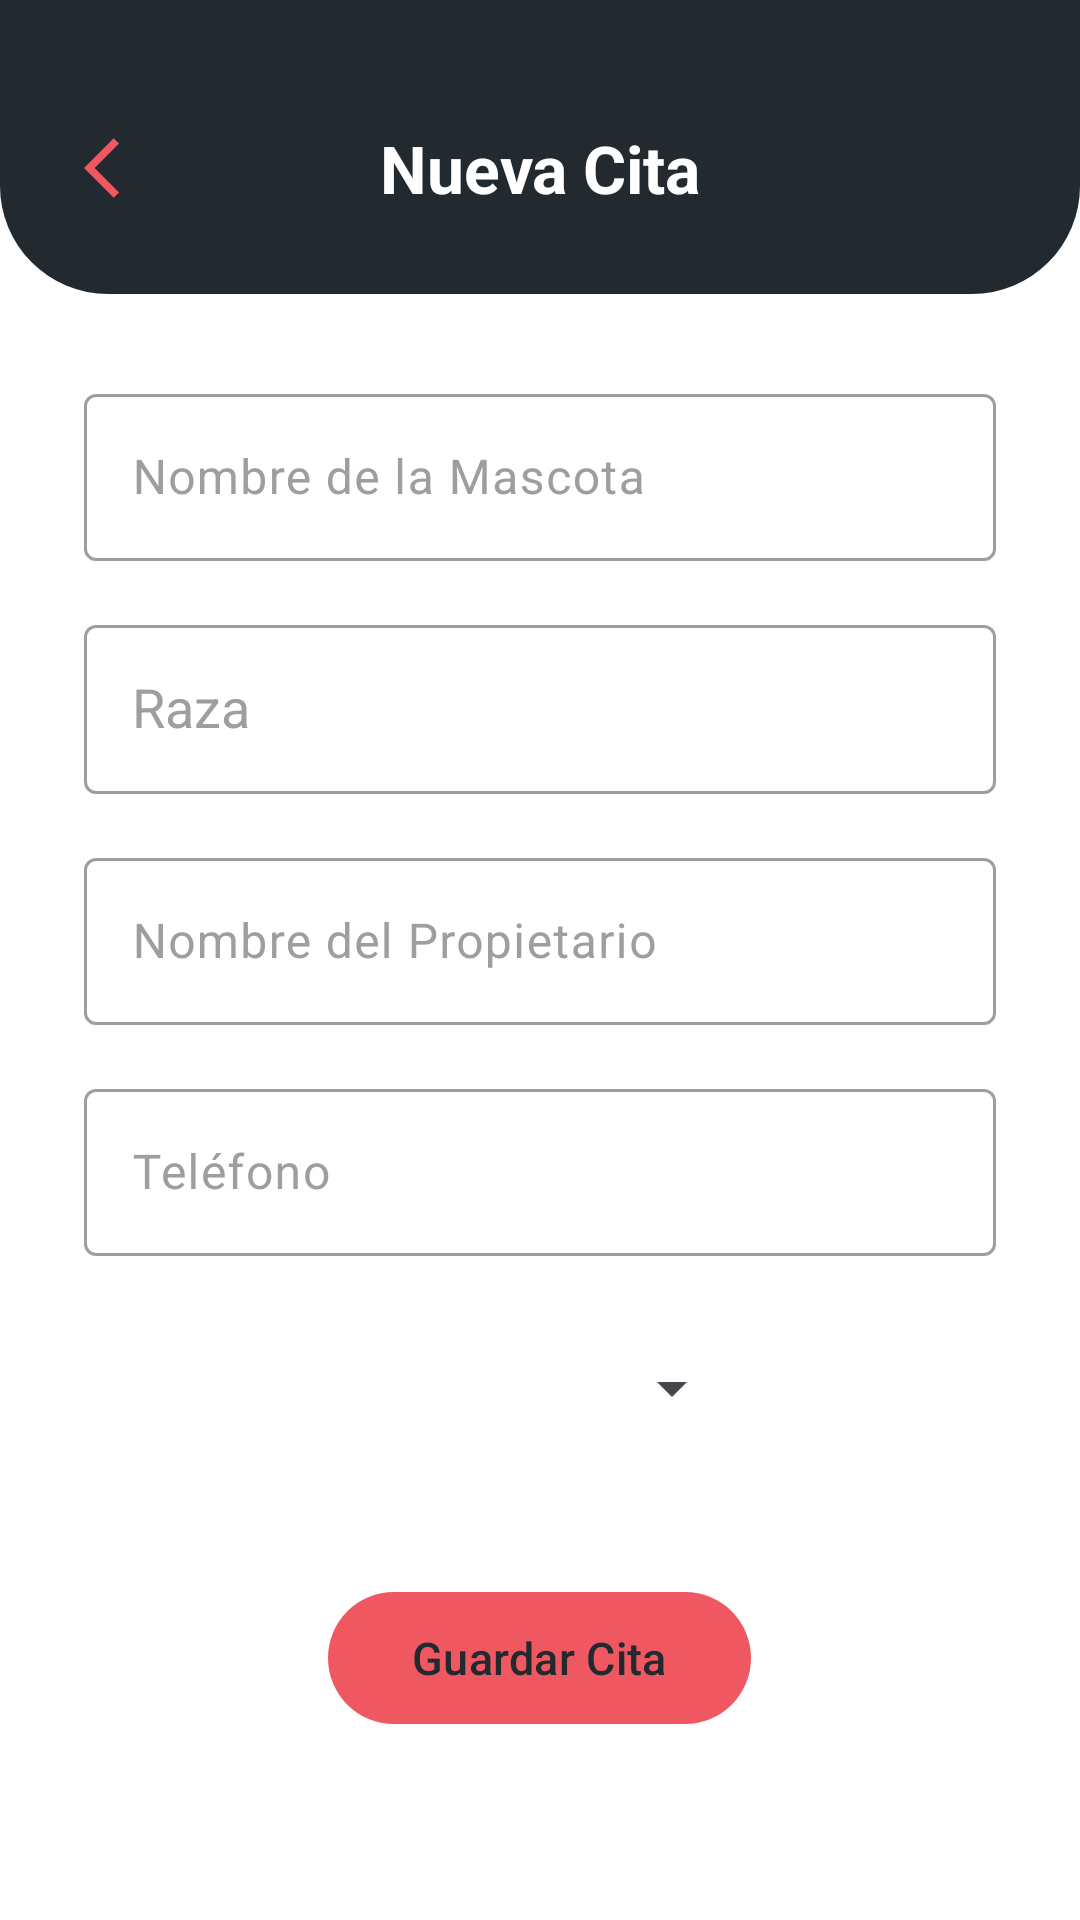

Screen size 1080 x 1920. Icon name, then its center in pixels as (x=x, y=y):
Volver: (x=101, y=168)
